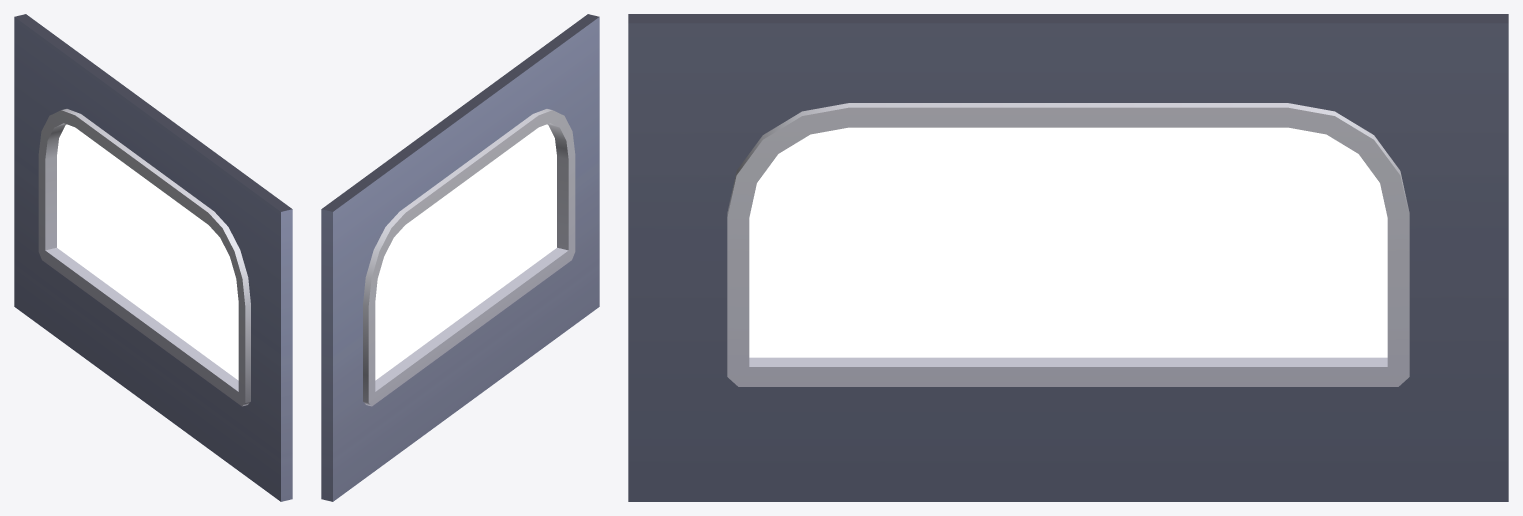
The model's file is kenney-building-wall-window-wide-round.glb.
The picture shows the model from 3 angles, left to right: view 1: azimuth 30°, elevation 25°; view 2: azimuth 150°, elevation 25°; view 3: azimuth 270°, elevation 25°; orthographic projection. The views are drawn at different scales.
Visible parts, largest first — view 1: wall-window-wide-round, (%ignore); view 2: wall-window-wide-round, (%ignore); view 3: wall-window-wide-round, (%ignore).
Part boxes in pixels (x1,y1,x2,y2): wall-window-wide-round: [14, 14, 292, 501]; (%ignore): [57, 124, 238, 380]; wall-window-wide-round: [321, 14, 599, 501]; (%ignore): [375, 124, 556, 380]; wall-window-wide-round: [628, 14, 1508, 501]; (%ignore): [749, 127, 1387, 357].
Bounding box in the file's own units: 0.2002 × 2.4 × 4.
2 materials, 1 textured.
